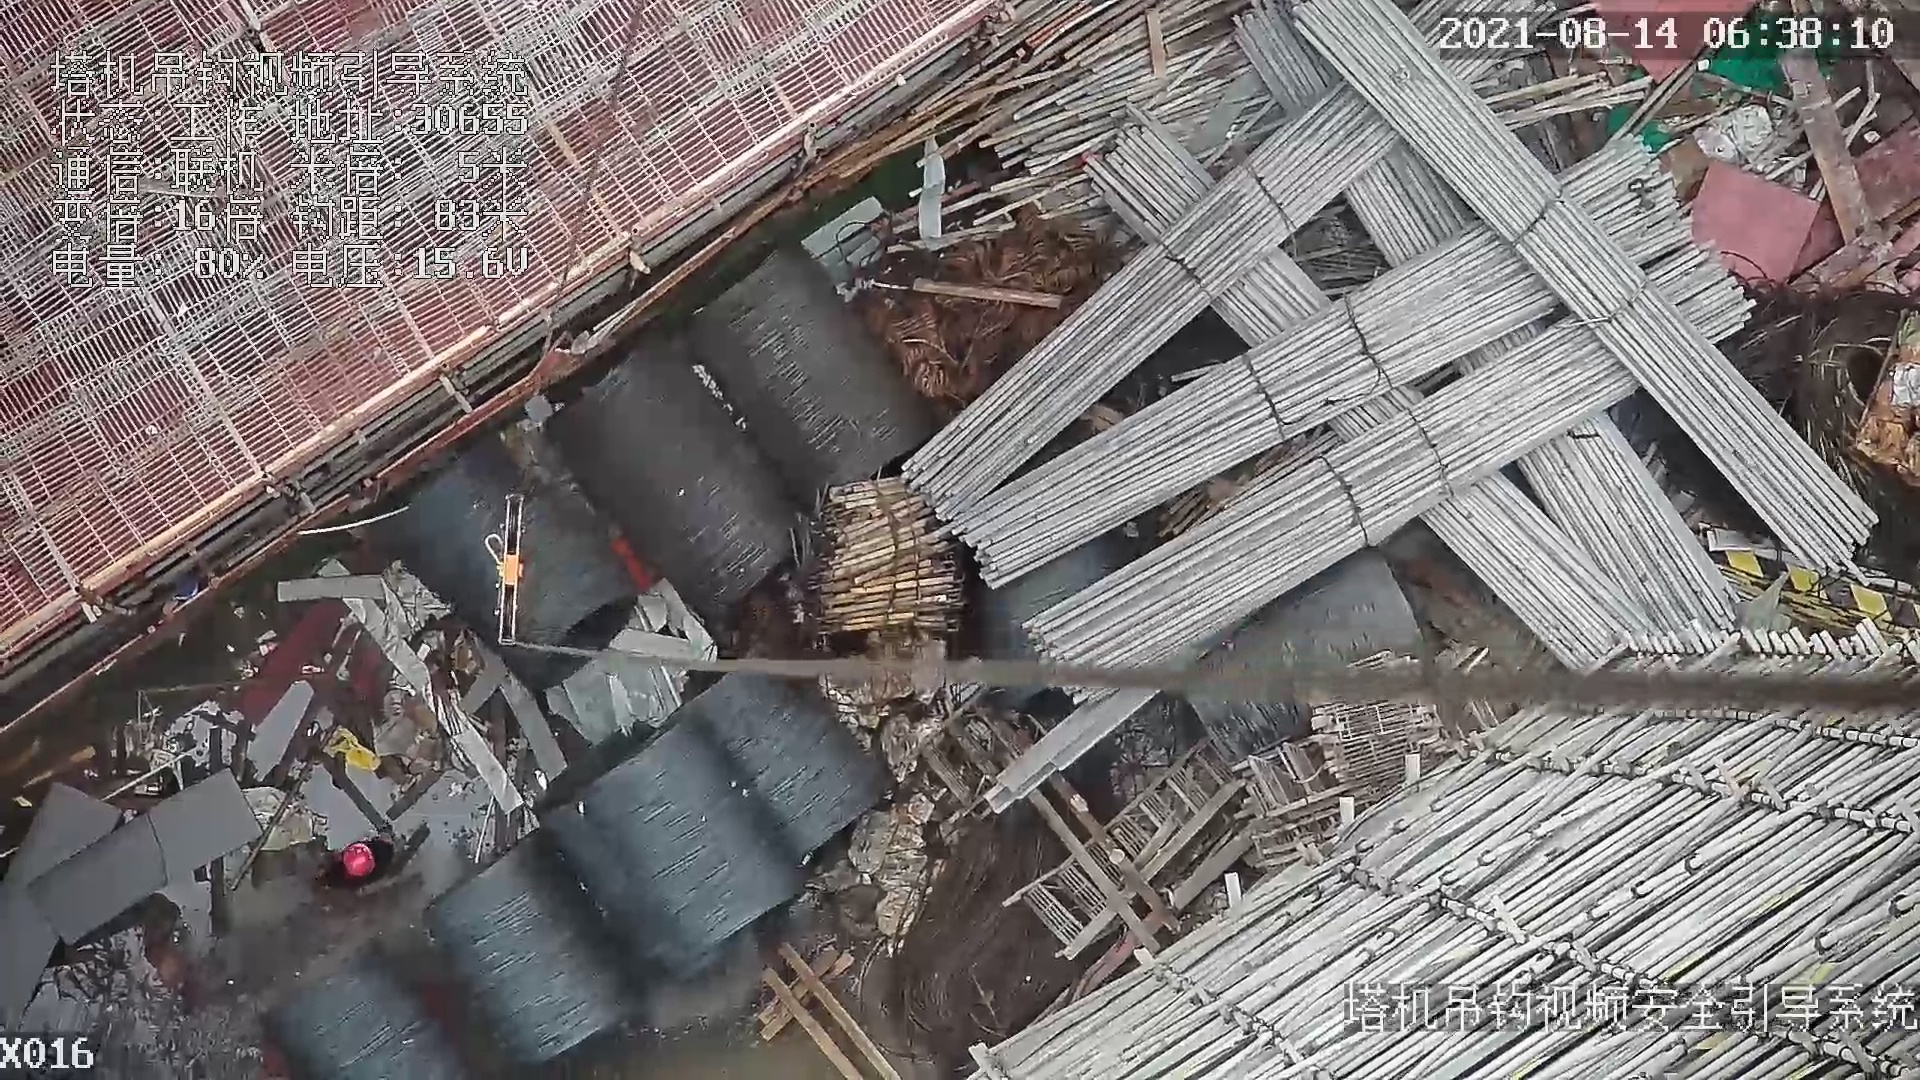helmet: (337, 833, 378, 890)
hook: (483, 495, 523, 650)
person: (310, 819, 433, 901)
scaffold: (910, 13, 1874, 655), (804, 471, 995, 658)
